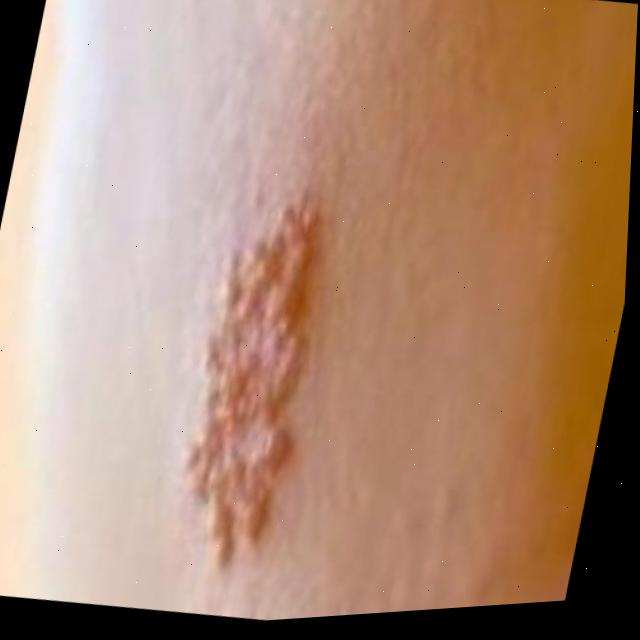Shingles: (157, 178, 374, 559)
